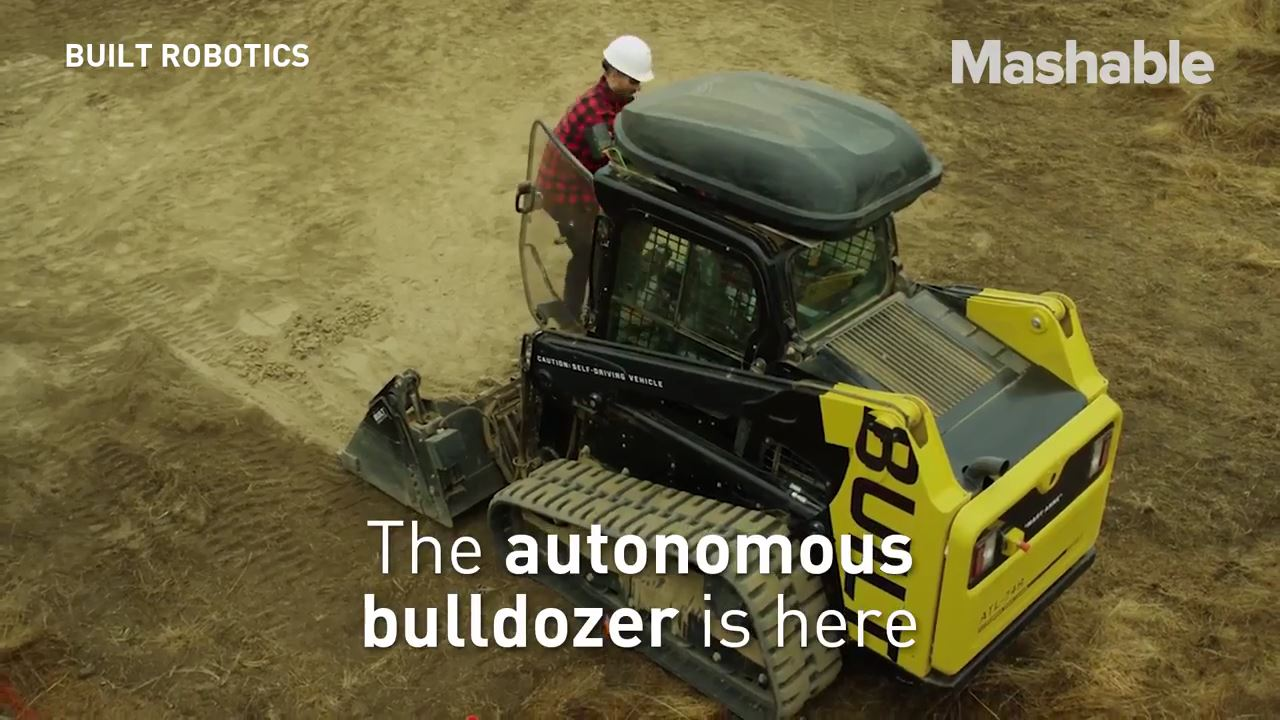con_eq: (322, 45, 1115, 709)
